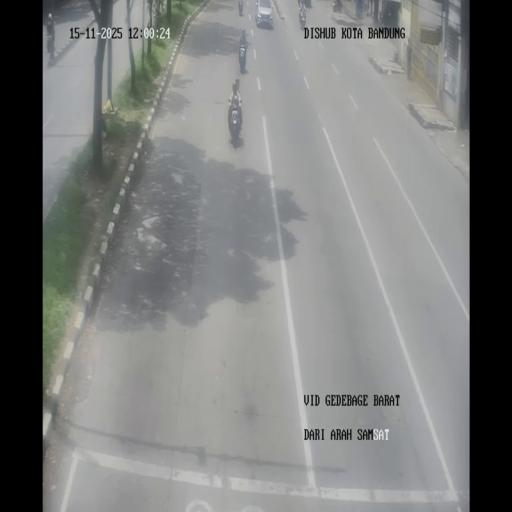car: (255, 0, 273, 28)
truck: (228, 100, 242, 142), (238, 37, 248, 72), (46, 22, 56, 54), (298, 6, 306, 29), (332, 0, 342, 12), (362, 0, 369, 16), (238, 0, 244, 16), (378, 9, 384, 23)
